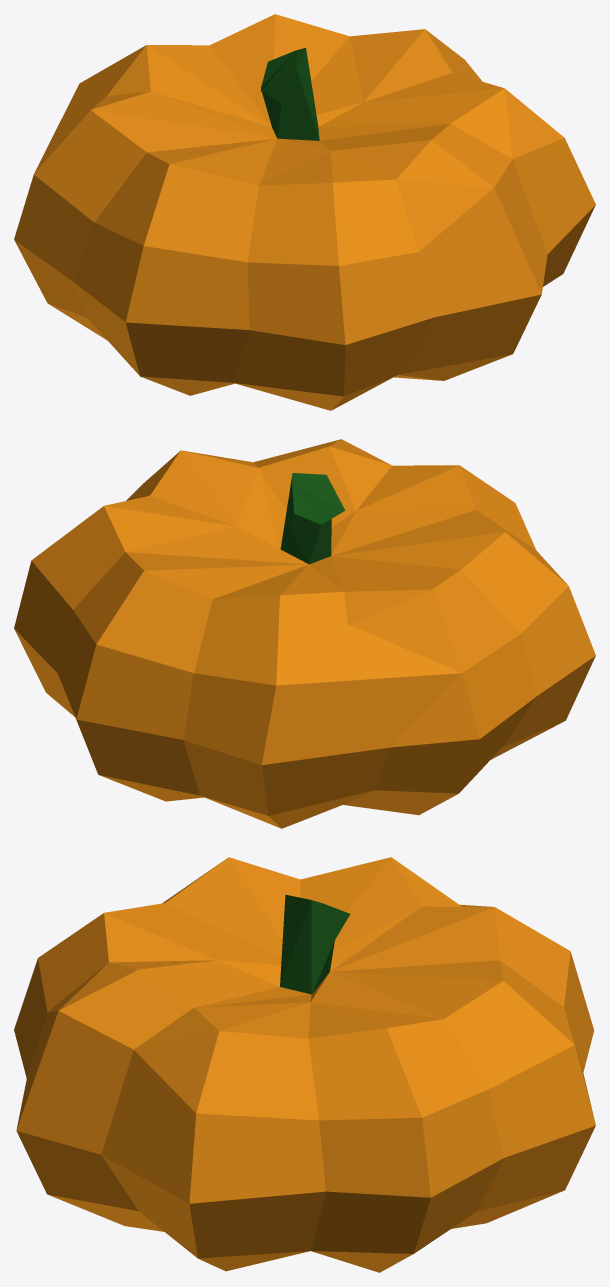
The model's file is pumpkin_02.fbx.
The picture shows the model from 3 angles, top to bottom: view 1: azimuth 30°, elevation 25°; view 2: azimuth 150°, elevation 25°; view 3: azimuth 270°, elevation 25°; orthographic projection. The views are drawn at different scales.
Parts seen in each view (by area): view 1: pumpkin_02; view 2: pumpkin_02; view 3: pumpkin_02.
Boxes of the visible parts, bbox=[...] form: pumpkin_02: bbox=[14, 14, 595, 410]; pumpkin_02: bbox=[14, 439, 595, 828]; pumpkin_02: bbox=[14, 857, 595, 1272].
Size of the model in its own units: 109 by 66.64 by 109.
